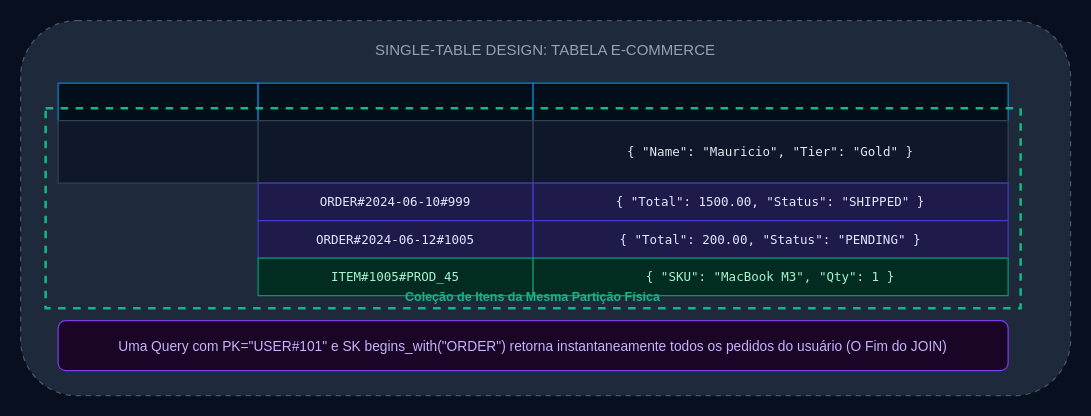
The diagram is 1091 pixels wide and 416 high, and some of its shapes have lost their labels. The centre of each missing label's shape, as x and y in pixels:
Atributos Livres (JSON): point 770,101
PK (Partition Key): point 157,101
PROFILE#101: point 395,151
SK (Sort Key): point 395,101
USER#101: point 157,151
